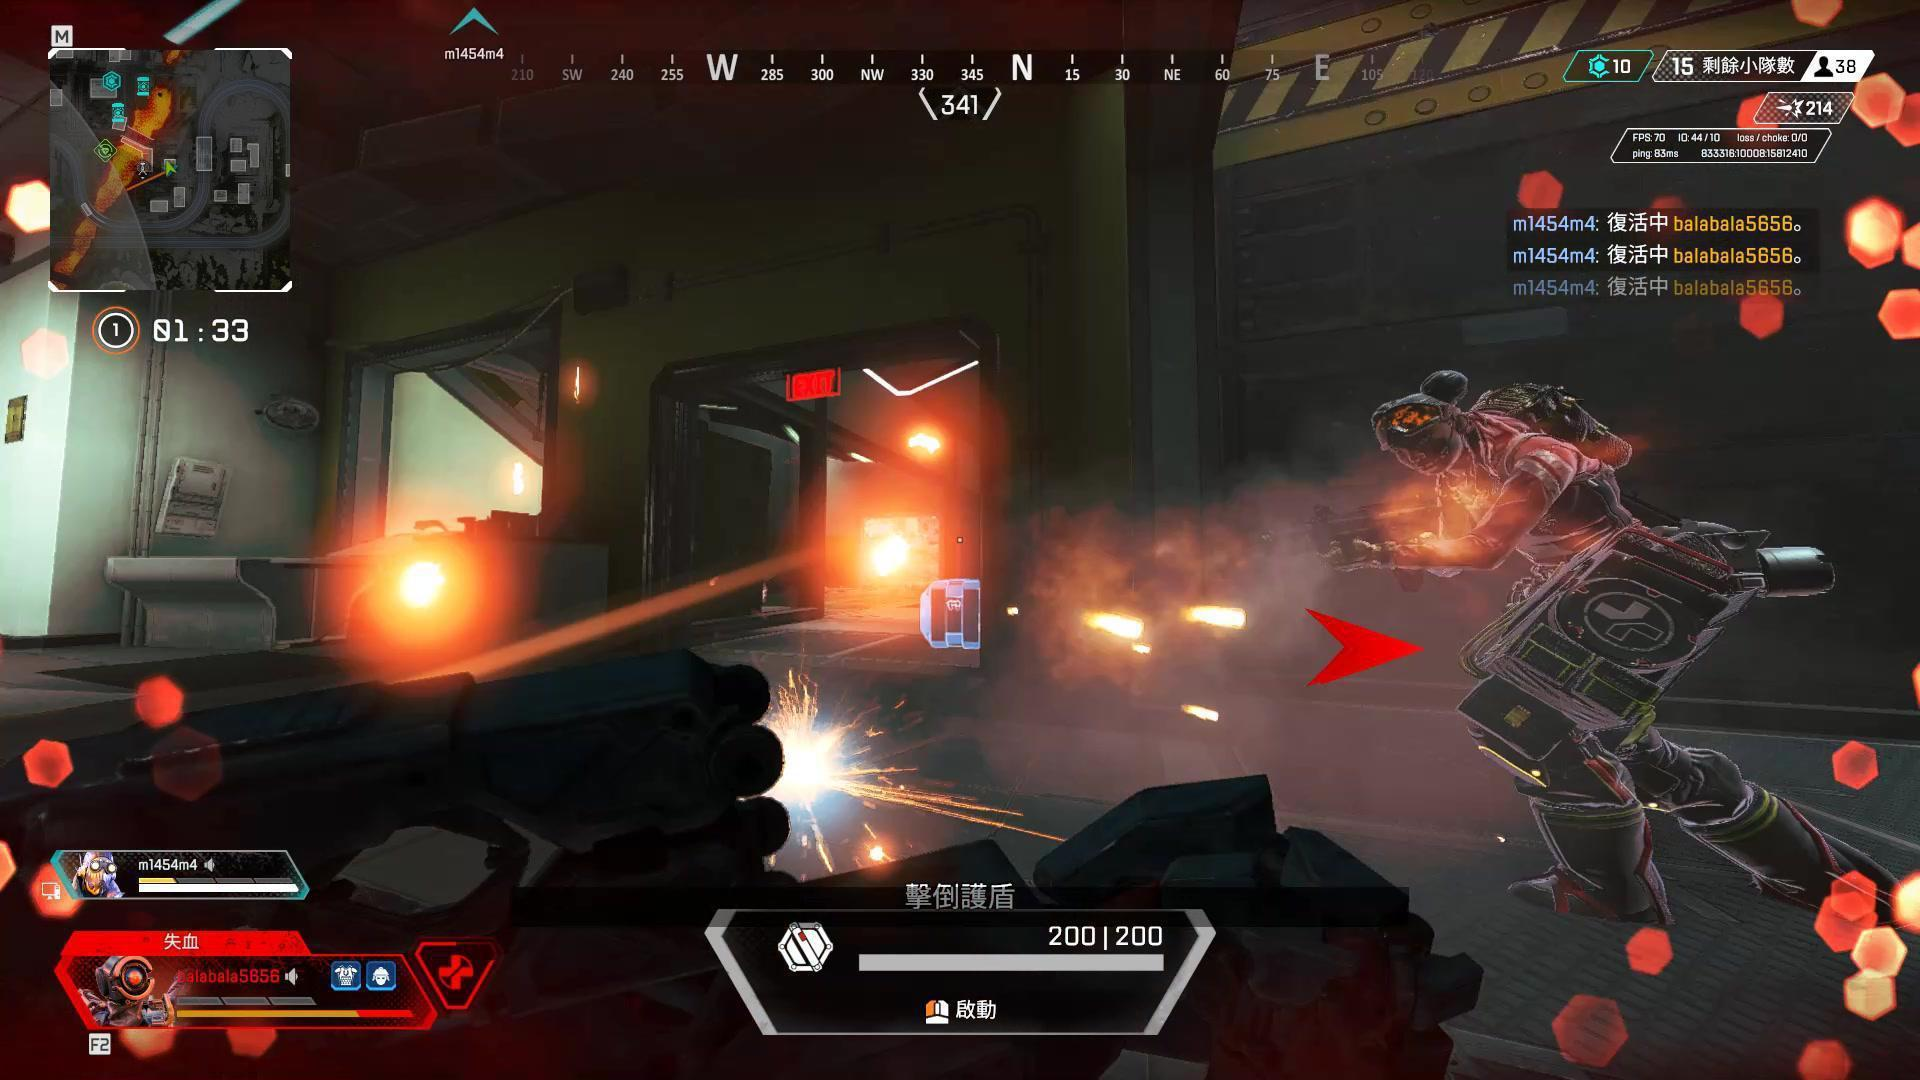avatar: (1368, 368, 1763, 929)
